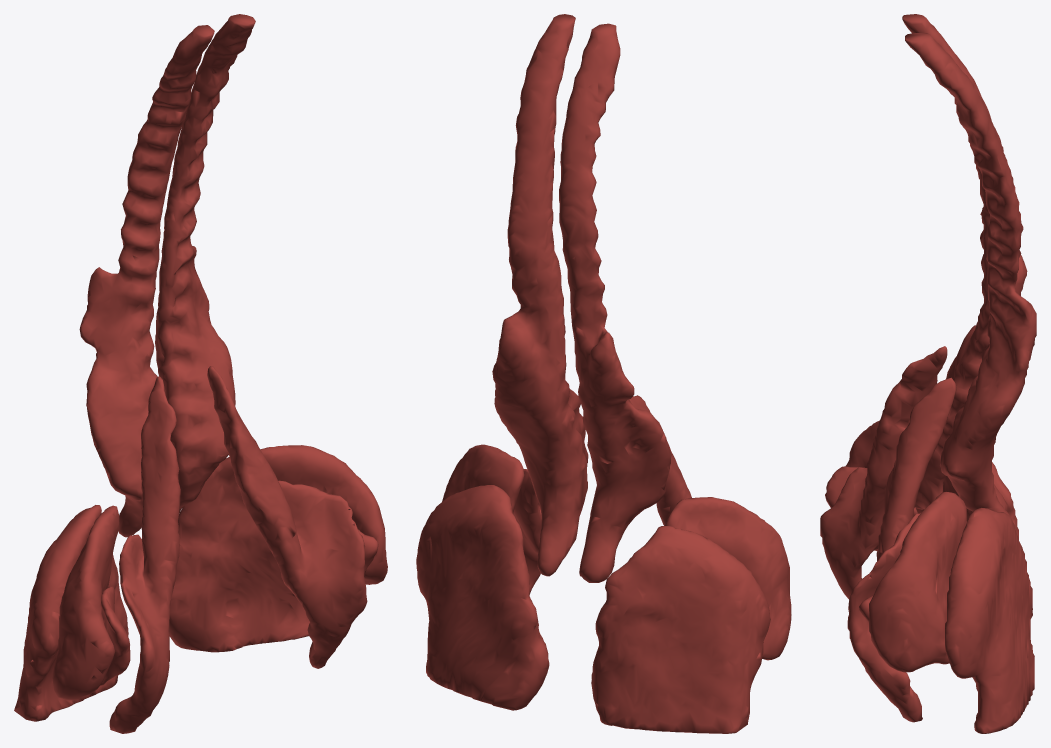
The model's file is tsd_s0196_older_adult_female.muscular.LOD4.glb.
3 renders of one model, left to right at view 1: azimuth 30°, elevation 25°; view 2: azimuth 150°, elevation 25°; view 3: azimuth 270°, elevation 25°, orthographic. The views are drawn at different scales.
Visible parts, largest first — view 1: TSD_S0196.OLDER_ADULT.FEMALE.MUSCULAR.ERECTOR_SPINAE_AUTOCHT (×2), TSD_S0196.OLDER_ADULT.FEMALE.MUSCULAR.GLUTEUS_MAXIMUS.L, TSD_S0196.OLDER_ADULT.FEMALE.MUSCULAR.ILIOPSOAS.L, TSD_S0196.OLDER_ADULT.FEMALE.MUSCULAR.ILIOPSOAS.R, TSD_S0196.OLDER_ADULT.FEMALE.MUSCULAR.GLUTEUS_MAXIMUS.R, TSD_S0196.OLDER_ADULT.FEMALE.MUSCULAR.GLUTEUS_MEDIUS.R, TSD_S0196.OLDER_ADULT.FEMALE.MUSCULAR.GLUTEUS_MEDIUS.L, TSD_S0196.OLDER_ADULT.FEMALE.MUSCULAR.GLUTEUS_MINIMUS.R; view 2: TSD_S0196.OLDER_ADULT.FEMALE.MUSCULAR.ERECTOR_SPINAE_AUTOCHT (×2), TSD_S0196.OLDER_ADULT.FEMALE.MUSCULAR.GLUTEUS_MAXIMUS.R, TSD_S0196.OLDER_ADULT.FEMALE.MUSCULAR.GLUTEUS_MAXIMUS.L, TSD_S0196.OLDER_ADULT.FEMALE.MUSCULAR.GLUTEUS_MEDIUS.R, TSD_S0196.OLDER_ADULT.FEMALE.MUSCULAR.GLUTEUS_MEDIUS.L, TSD_S0196.OLDER_ADULT.FEMALE.MUSCULAR.ILIOPSOAS.L, TSD_S0196.OLDER_ADULT.FEMALE.MUSCULAR.ILIOPSOAS.R; view 3: TSD_S0196.OLDER_ADULT.FEMALE.MUSCULAR.ERECTOR_SPINAE_AUTOCHT (×2), TSD_S0196.OLDER_ADULT.FEMALE.MUSCULAR.GLUTEUS_MAXIMUS.L, TSD_S0196.OLDER_ADULT.FEMALE.MUSCULAR.GLUTEUS_MEDIUS.L, TSD_S0196.OLDER_ADULT.FEMALE.MUSCULAR.ILIOPSOAS.L, TSD_S0196.OLDER_ADULT.FEMALE.MUSCULAR.ILIOPSOAS.R, TSD_S0196.OLDER_ADULT.FEMALE.MUSCULAR.GLUTEUS_MEDIUS.R, TSD_S0196.OLDER_ADULT.FEMALE.MUSCULAR.GLUTEUS_MAXIMUS.R, TSD_S0196.OLDER_ADULT.FEMALE.MUSCULAR.GLUTEUS_MINIMUS.R.
Part boxes in pixels (x1=…): TSD_S0196.OLDER_ADULT.FEMALE.MUSCULAR.ERECTOR_SPINAE_AUTOCHT (×2): x1=79, y1=14, x2=255, y2=537; TSD_S0196.OLDER_ADULT.FEMALE.MUSCULAR.GLUTEUS_MAXIMUS.L: x1=169, y1=457, x2=309, y2=652; TSD_S0196.OLDER_ADULT.FEMALE.MUSCULAR.ILIOPSOAS.L: x1=207, y1=366, x2=367, y2=668; TSD_S0196.OLDER_ADULT.FEMALE.MUSCULAR.ILIOPSOAS.R: x1=109, y1=376, x2=180, y2=733; TSD_S0196.OLDER_ADULT.FEMALE.MUSCULAR.GLUTEUS_MAXIMUS.R: x1=14, y1=505, x2=128, y2=721; TSD_S0196.OLDER_ADULT.FEMALE.MUSCULAR.GLUTEUS_MEDIUS.R: x1=52, y1=505, x2=119, y2=700; TSD_S0196.OLDER_ADULT.FEMALE.MUSCULAR.GLUTEUS_MEDIUS.L: x1=260, y1=445, x2=387, y2=584; TSD_S0196.OLDER_ADULT.FEMALE.MUSCULAR.GLUTEUS_MINIMUS.R: x1=100, y1=586, x2=130, y2=685; TSD_S0196.OLDER_ADULT.FEMALE.MUSCULAR.ERECTOR_SPINAE_AUTOCHT (×2): x1=492, y1=14, x2=671, y2=582; TSD_S0196.OLDER_ADULT.FEMALE.MUSCULAR.GLUTEUS_MAXIMUS.R: x1=591, y1=526, x2=770, y2=733; TSD_S0196.OLDER_ADULT.FEMALE.MUSCULAR.GLUTEUS_MAXIMUS.L: x1=416, y1=485, x2=549, y2=710; TSD_S0196.OLDER_ADULT.FEMALE.MUSCULAR.GLUTEUS_MEDIUS.R: x1=665, y1=497, x2=791, y2=660; TSD_S0196.OLDER_ADULT.FEMALE.MUSCULAR.GLUTEUS_MEDIUS.L: x1=442, y1=444, x2=524, y2=513; TSD_S0196.OLDER_ADULT.FEMALE.MUSCULAR.ILIOPSOAS.L: x1=513, y1=383, x2=588, y2=594; TSD_S0196.OLDER_ADULT.FEMALE.MUSCULAR.ILIOPSOAS.R: x1=629, y1=395, x2=691, y2=525; TSD_S0196.OLDER_ADULT.FEMALE.MUSCULAR.ERECTOR_SPINAE_AUTOCHT (×2): x1=902, y1=14, x2=1036, y2=528; TSD_S0196.OLDER_ADULT.FEMALE.MUSCULAR.GLUTEUS_MAXIMUS.L: x1=945, y1=508, x2=1034, y2=733; TSD_S0196.OLDER_ADULT.FEMALE.MUSCULAR.GLUTEUS_MEDIUS.L: x1=869, y1=492, x2=966, y2=672; TSD_S0196.OLDER_ADULT.FEMALE.MUSCULAR.ILIOPSOAS.L: x1=847, y1=377, x2=956, y2=722; TSD_S0196.OLDER_ADULT.FEMALE.MUSCULAR.ILIOPSOAS.R: x1=820, y1=346, x2=947, y2=599; TSD_S0196.OLDER_ADULT.FEMALE.MUSCULAR.GLUTEUS_MEDIUS.R: x1=846, y1=420, x2=945, y2=550; TSD_S0196.OLDER_ADULT.FEMALE.MUSCULAR.GLUTEUS_MAXIMUS.R: x1=916, y1=462, x2=1018, y2=539; TSD_S0196.OLDER_ADULT.FEMALE.MUSCULAR.GLUTEUS_MINIMUS.R: x1=825, y1=466, x2=917, y2=550.
Bounding box in the file's own units: 0.2945 × 0.5507 × 0.1668.
